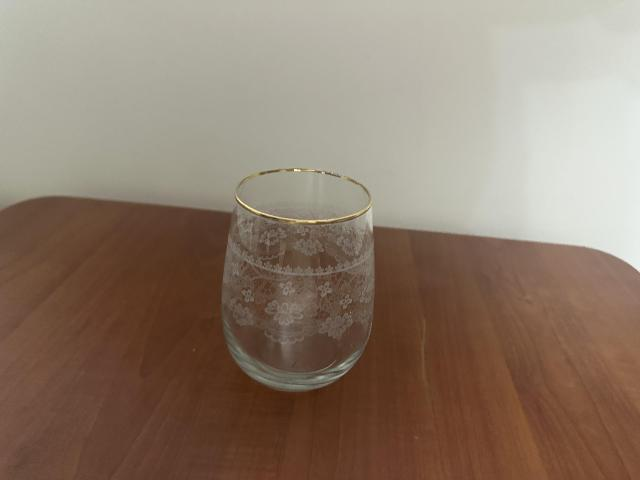Cam: (217, 160, 375, 392)
